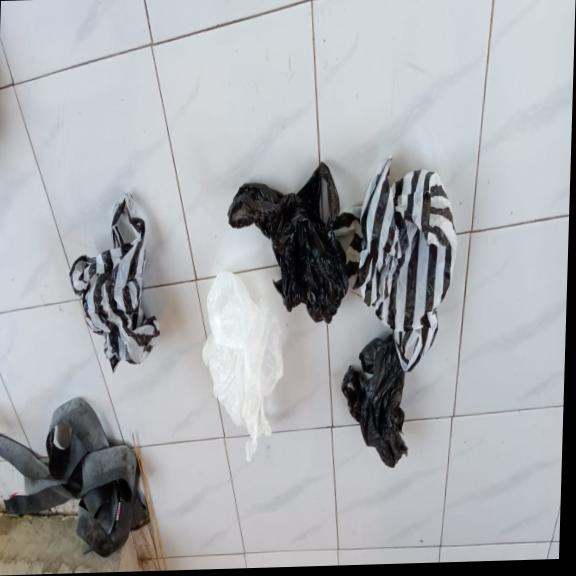Plastik: (329, 152, 459, 374), (223, 160, 351, 327), (64, 190, 164, 375), (199, 267, 286, 463), (337, 335, 411, 469)
